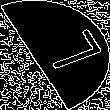L_SW: (16, 30, 94, 80)
